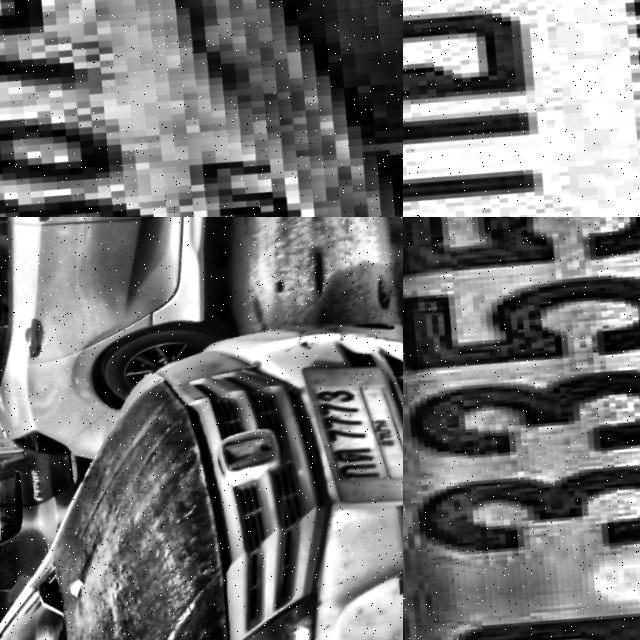license-plate: (403, 217, 640, 640), (0, 0, 403, 217), (403, 0, 640, 217), (286, 337, 403, 514)
